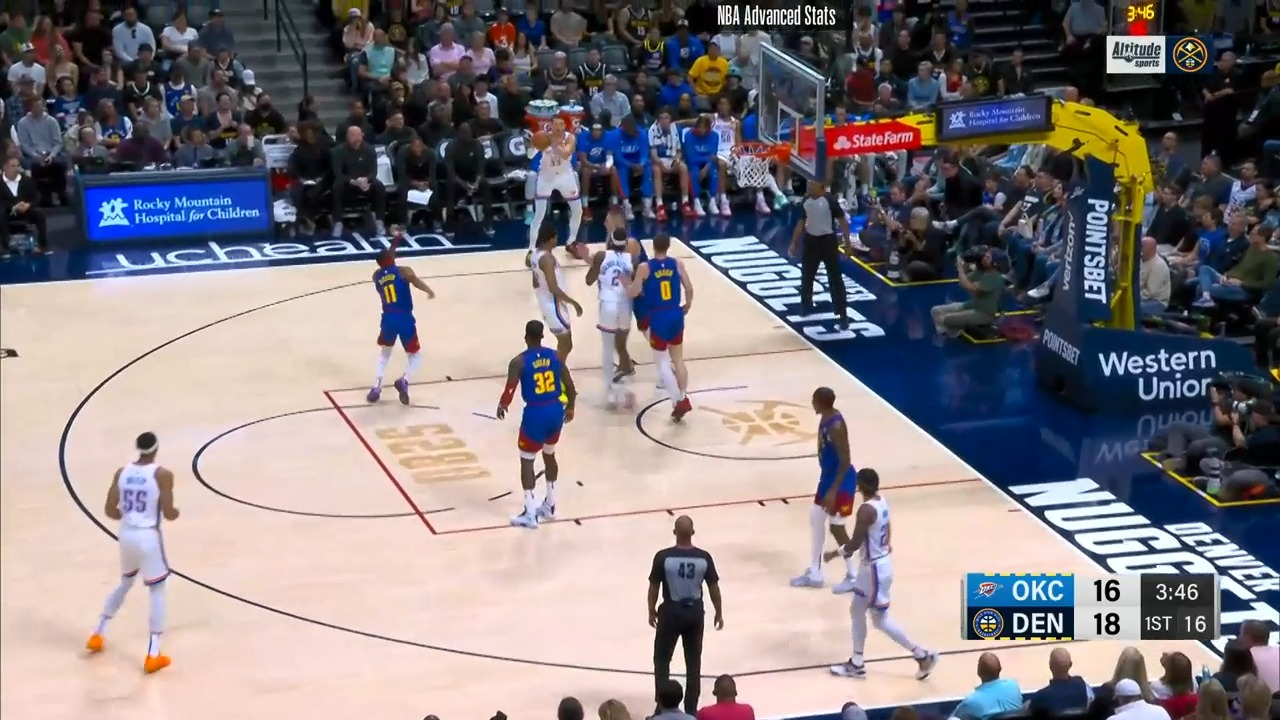net: (722, 133, 791, 193)
player: (87, 427, 193, 683), (829, 470, 937, 692), (496, 316, 579, 533), (623, 230, 700, 431), (796, 384, 865, 595), (368, 242, 447, 414), (576, 217, 643, 415), (525, 220, 588, 396), (528, 108, 597, 265)
referee: (641, 515, 727, 714), (791, 176, 859, 335)
